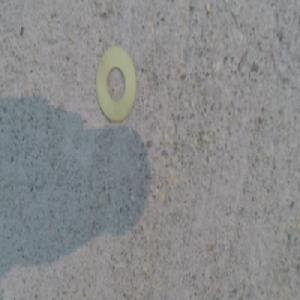Washer: (92, 47, 135, 125)
